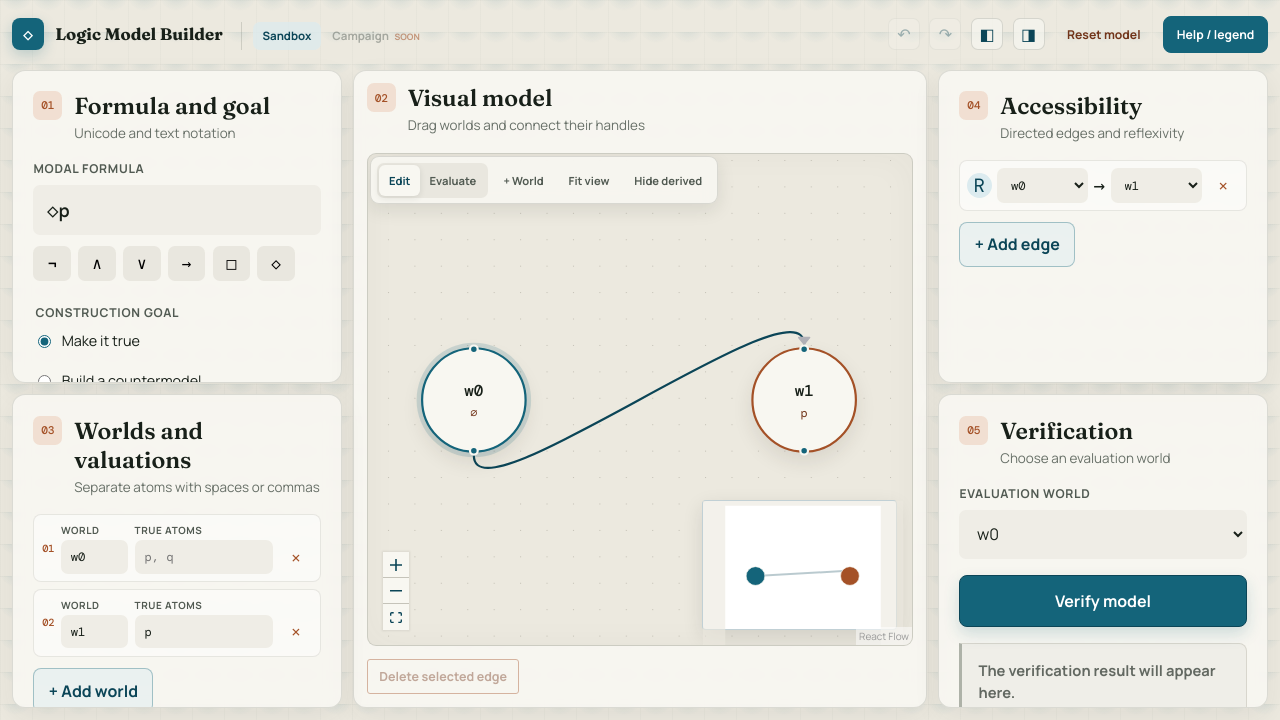
Scenario: sandbox user interface › adds a world and can undo the change
Expected: the number of fields labelled "World" is 2, [61,540,128,574]; [61,615,128,648]
Click the button "+ Add world" at (94, 691), box [34,668,154,713]
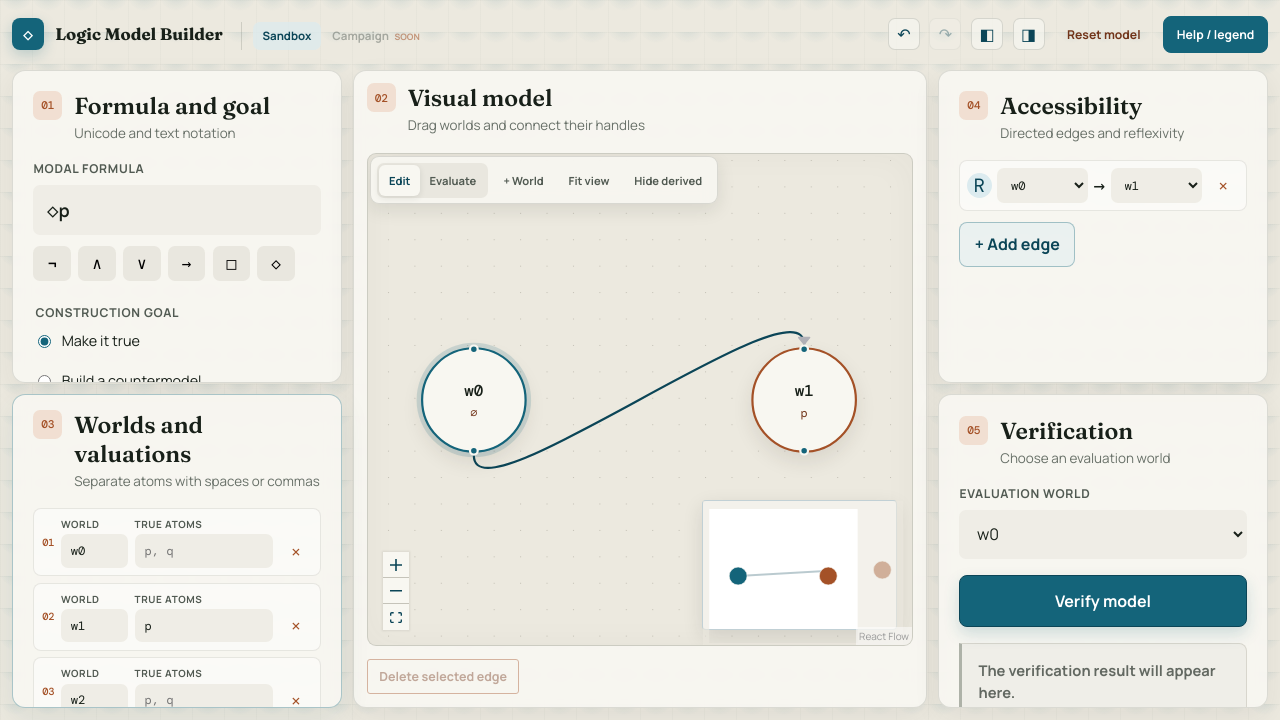
Result: the number of fields labelled "World" is 3 at [61,534,128,568]; [61,609,128,642]; [61,684,128,708]
Click the button named "Undo" at (904, 34), box [888,18,920,50]
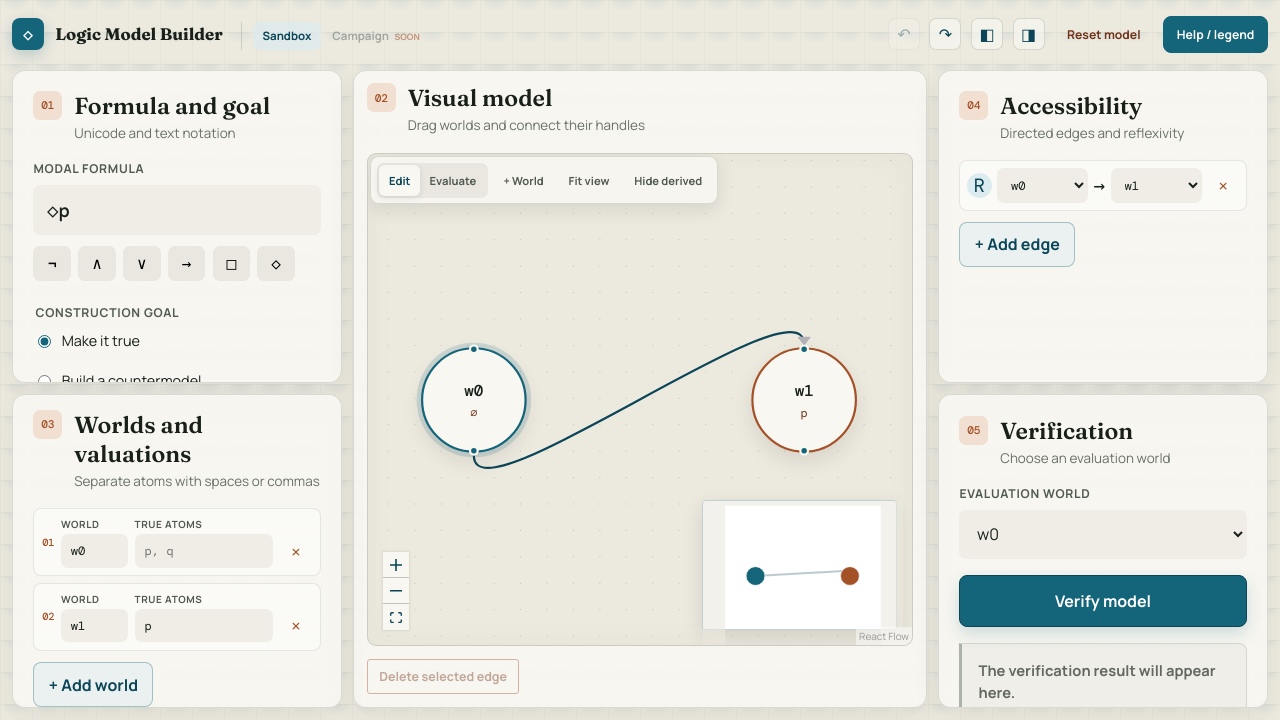
Result: the number of fields labelled "World" is 2 at [61,534,128,568]; [61,609,128,642]
